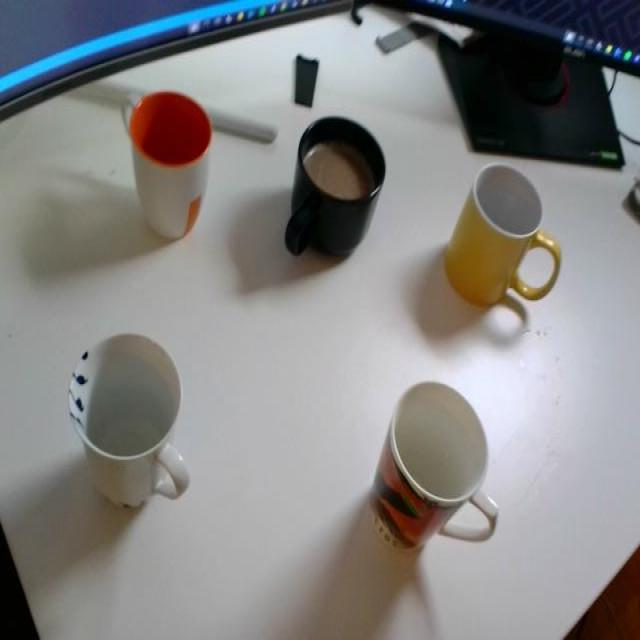cup: (338, 374, 507, 568), (64, 328, 194, 540), (440, 165, 569, 327), (270, 100, 386, 272), (119, 86, 220, 246)
